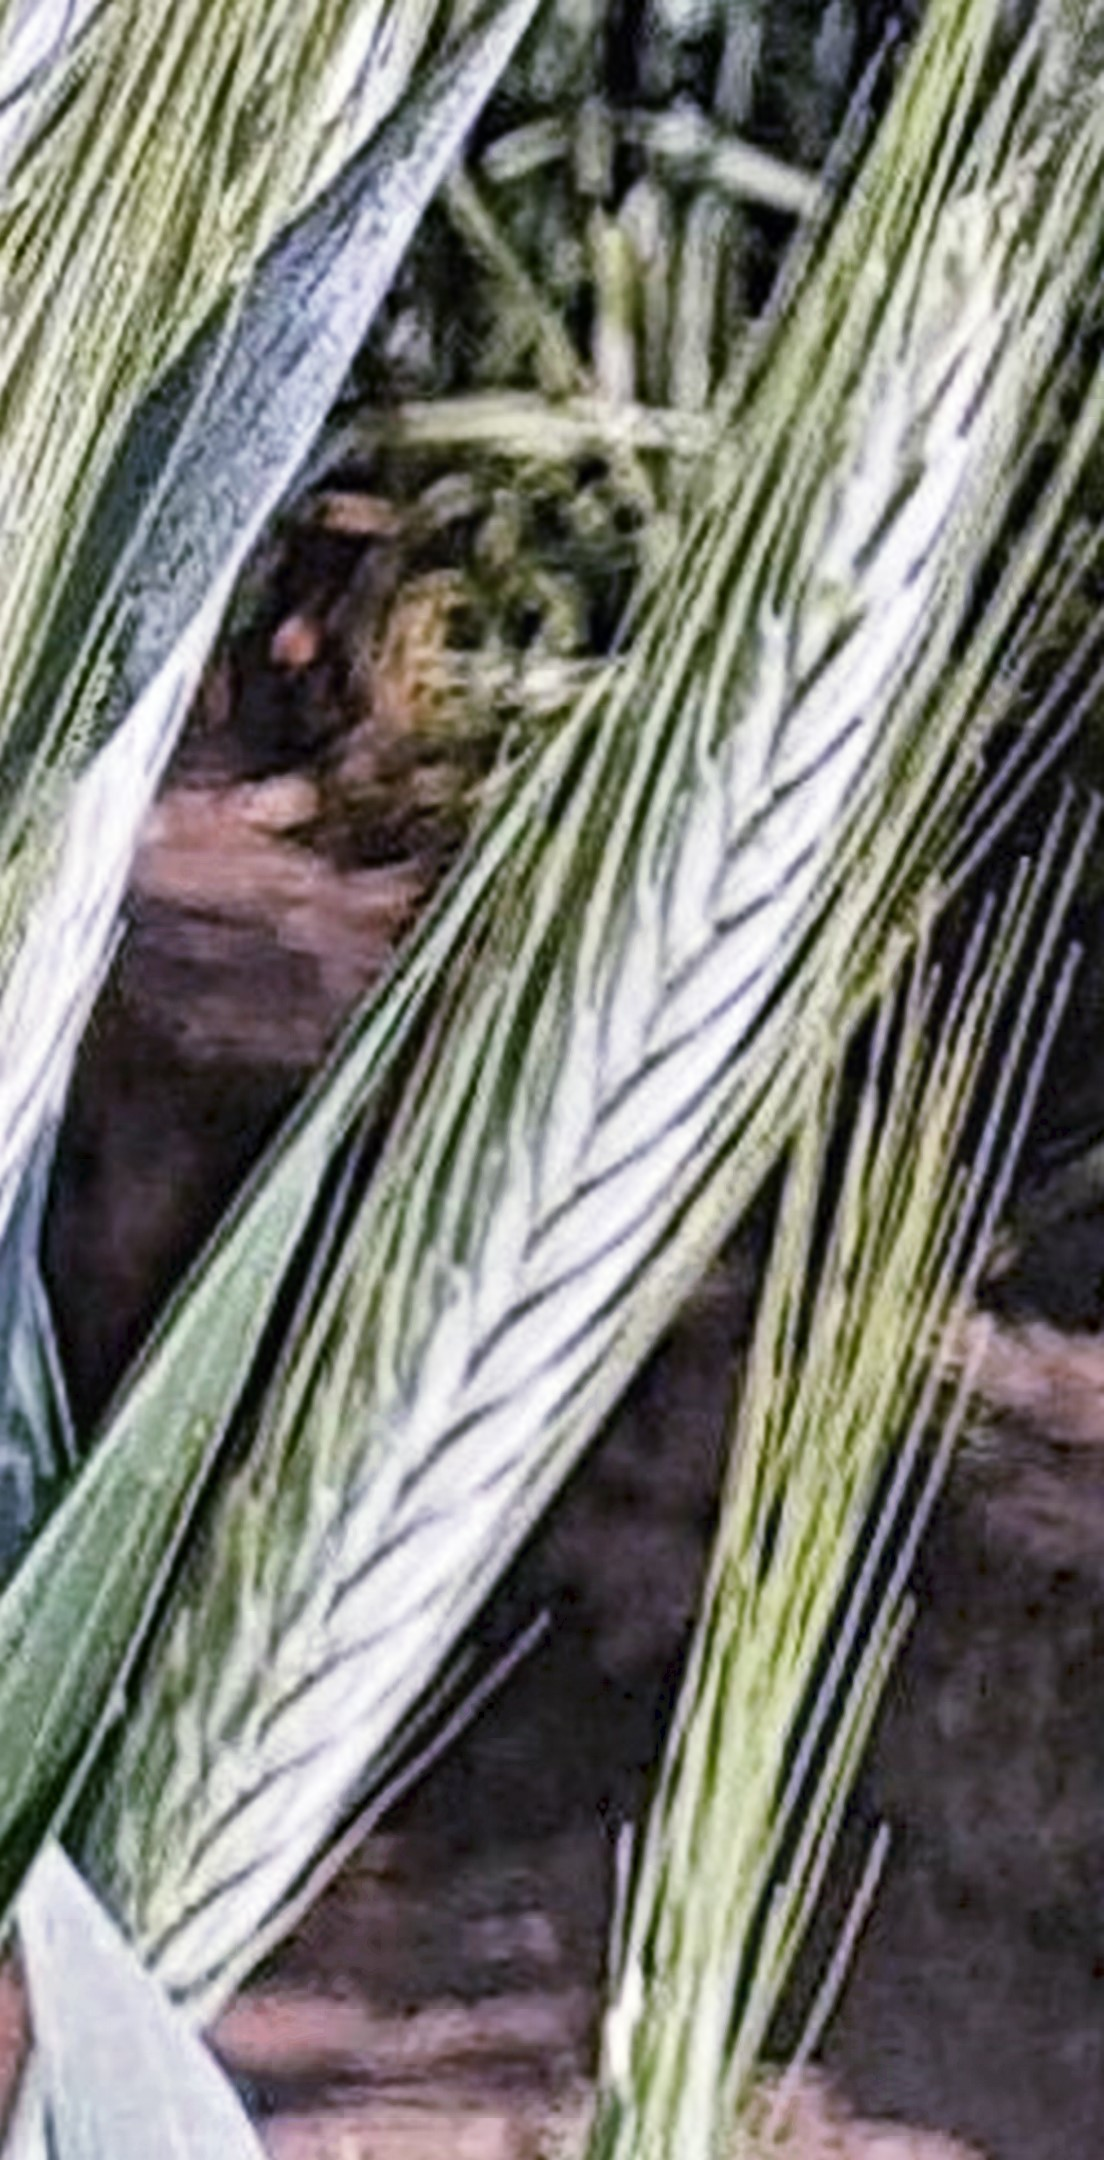Healthy Wheat: (118, 275, 1093, 1936)
